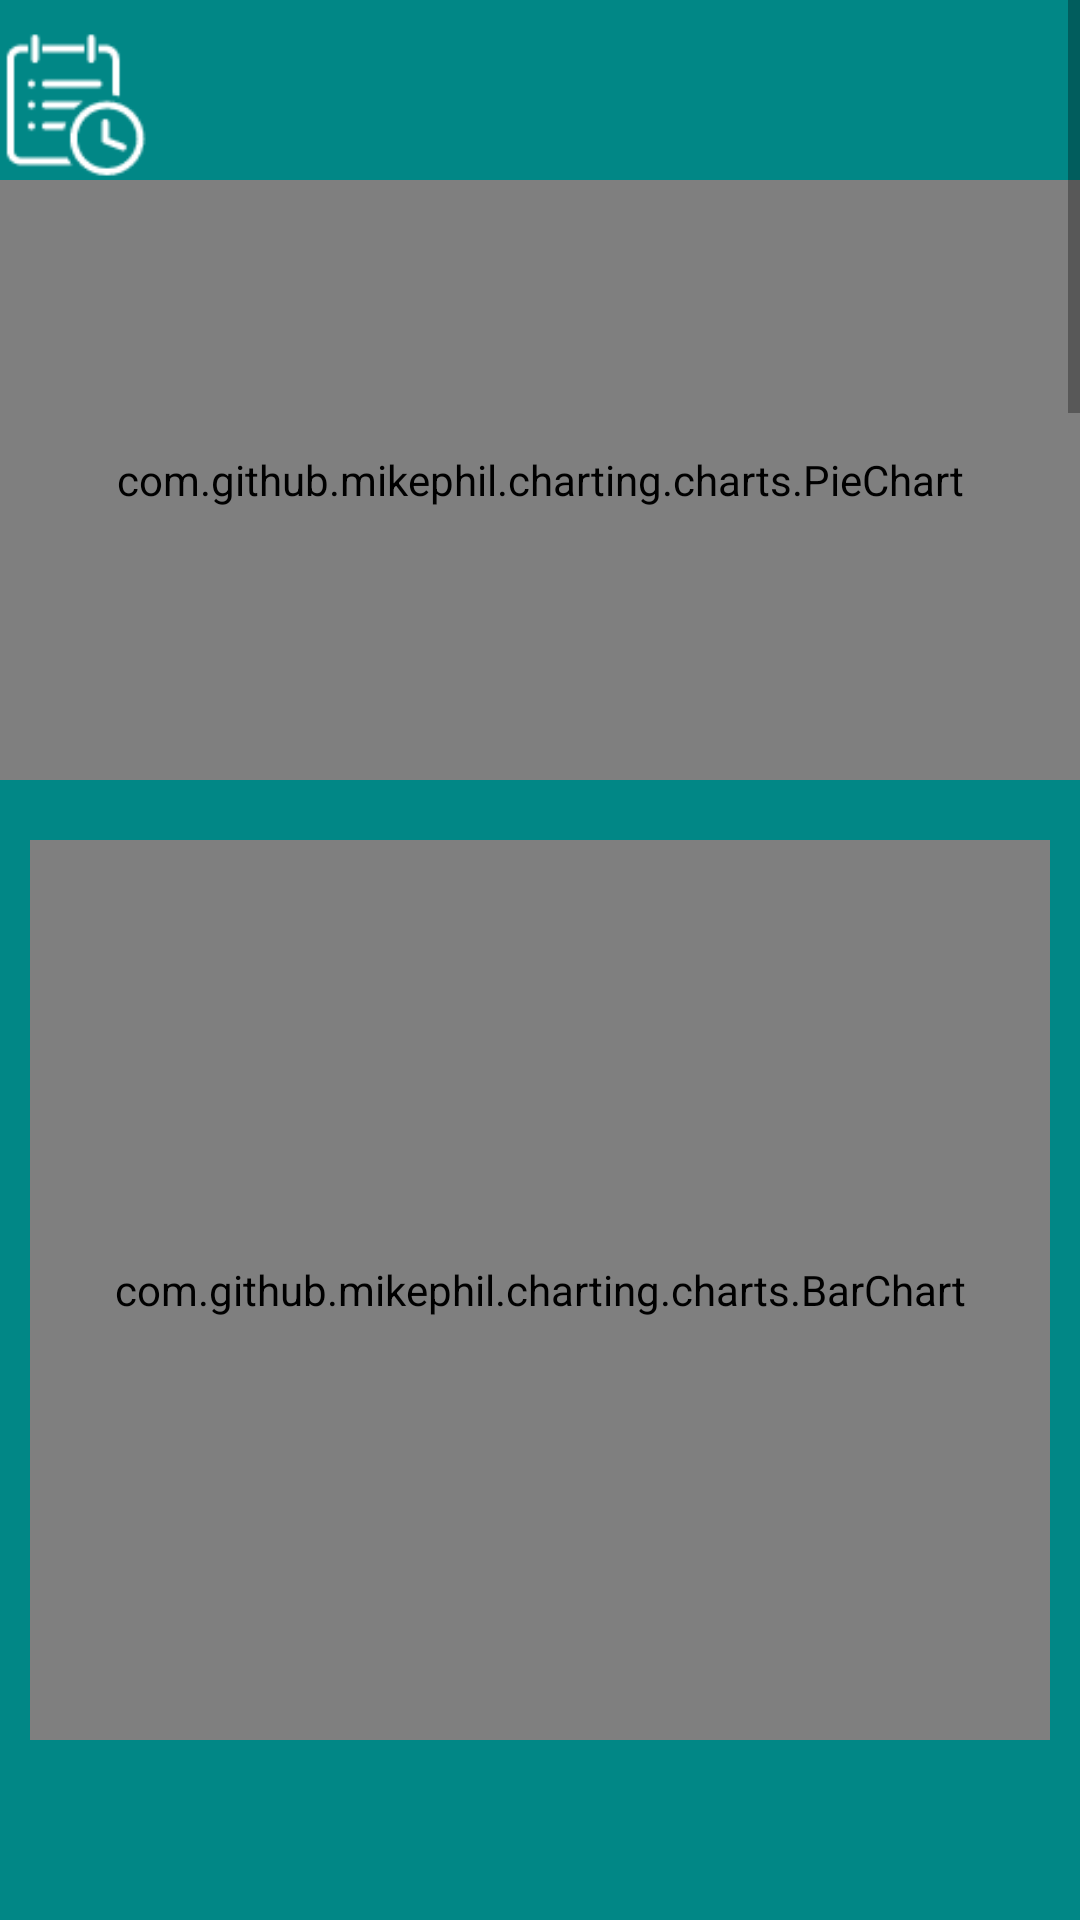

Icon bounding boxes for this 1080 x 1920 phone screenshot, format (x1, y1, x2, y2):
date: (6, 34, 146, 176)
